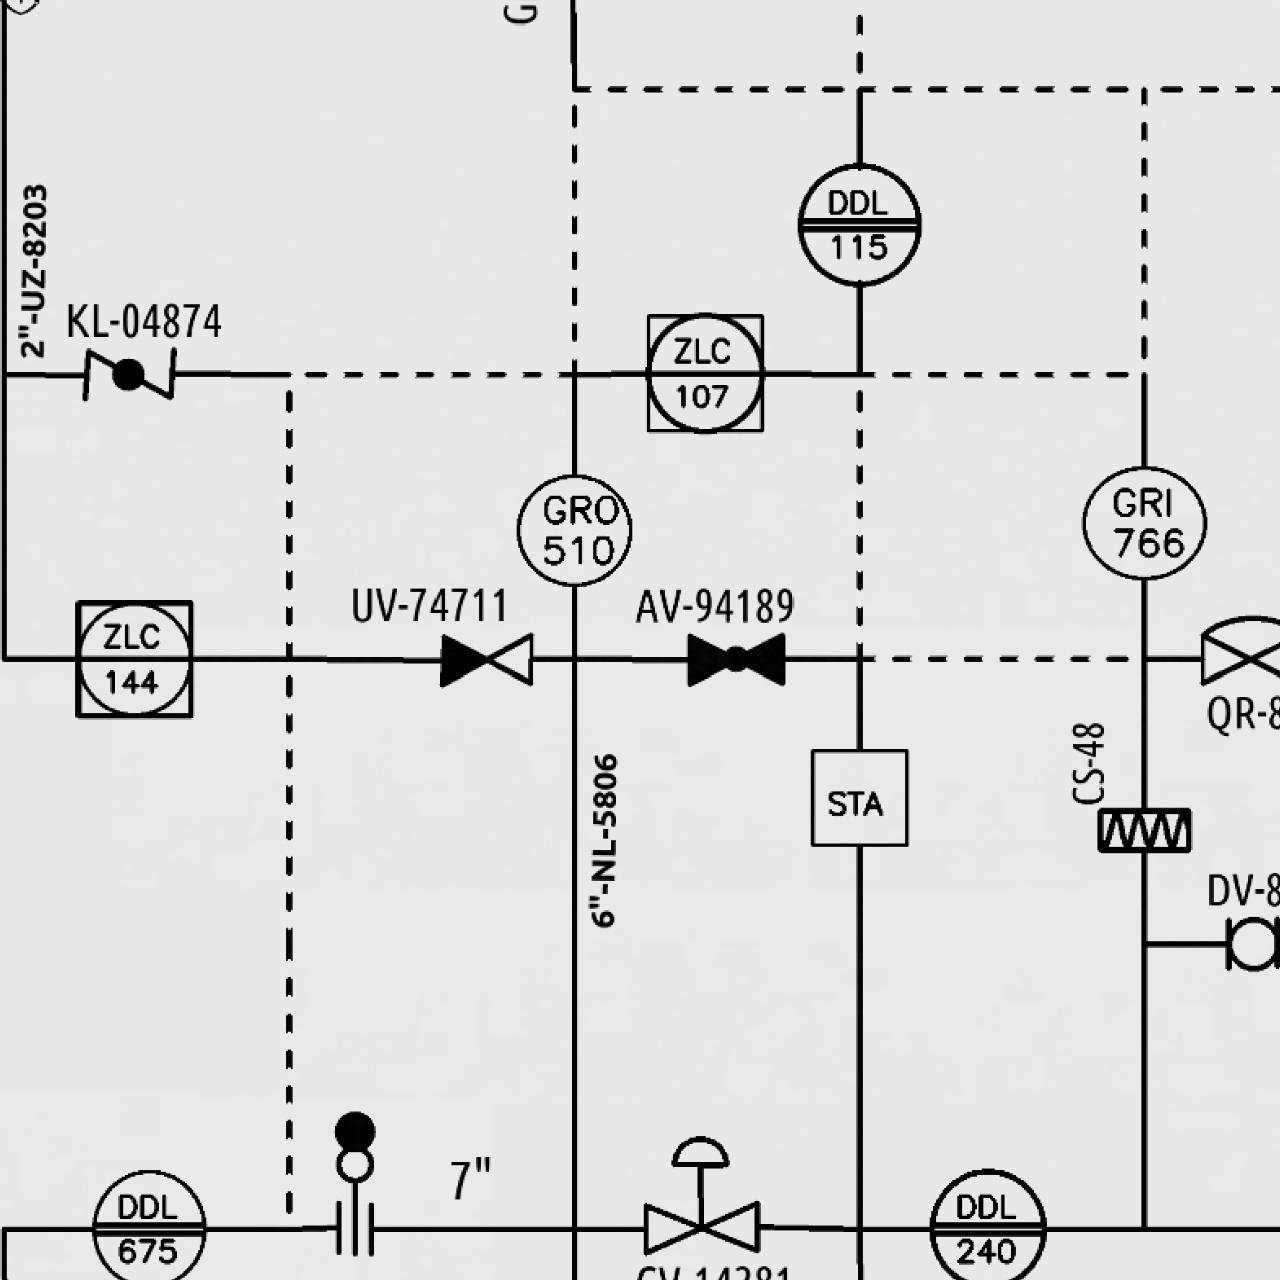Control-Panel: (792, 158, 924, 290)
Half closed valve: (434, 628, 537, 690)
